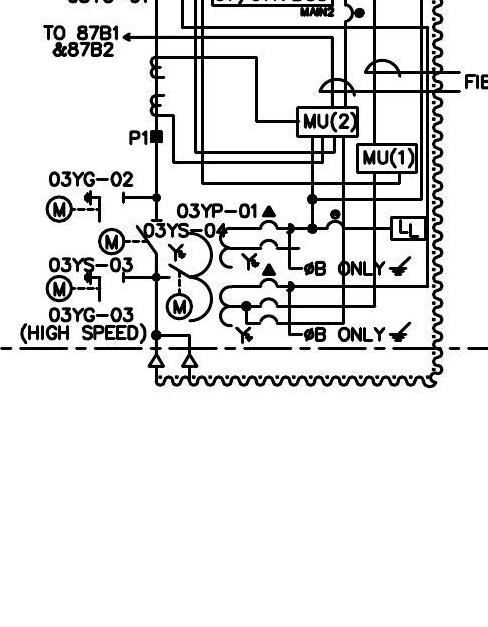115_1way_ds_w_motor: (97, 218, 164, 257), (165, 263, 194, 321)
115_gs_w_motor: (45, 189, 126, 224), (45, 269, 126, 304)
115_vt_3p: (167, 204, 280, 345)
LL: (390, 215, 427, 242)
MU: (296, 106, 359, 138), (356, 142, 418, 174)
terminator_double: (147, 334, 199, 369)
